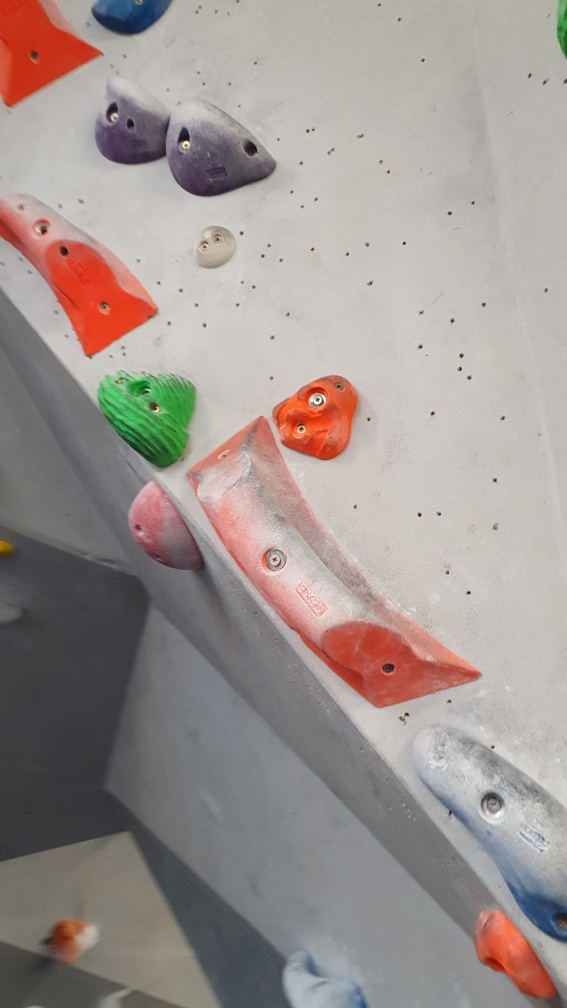Jug: (165, 95, 281, 194), (94, 370, 193, 468), (90, 72, 179, 165), (279, 944, 369, 1008)
Pinch: (189, 413, 489, 707), (414, 719, 567, 941), (1, 189, 159, 359), (1, 1, 108, 115)
Sloper: (129, 475, 209, 578)
